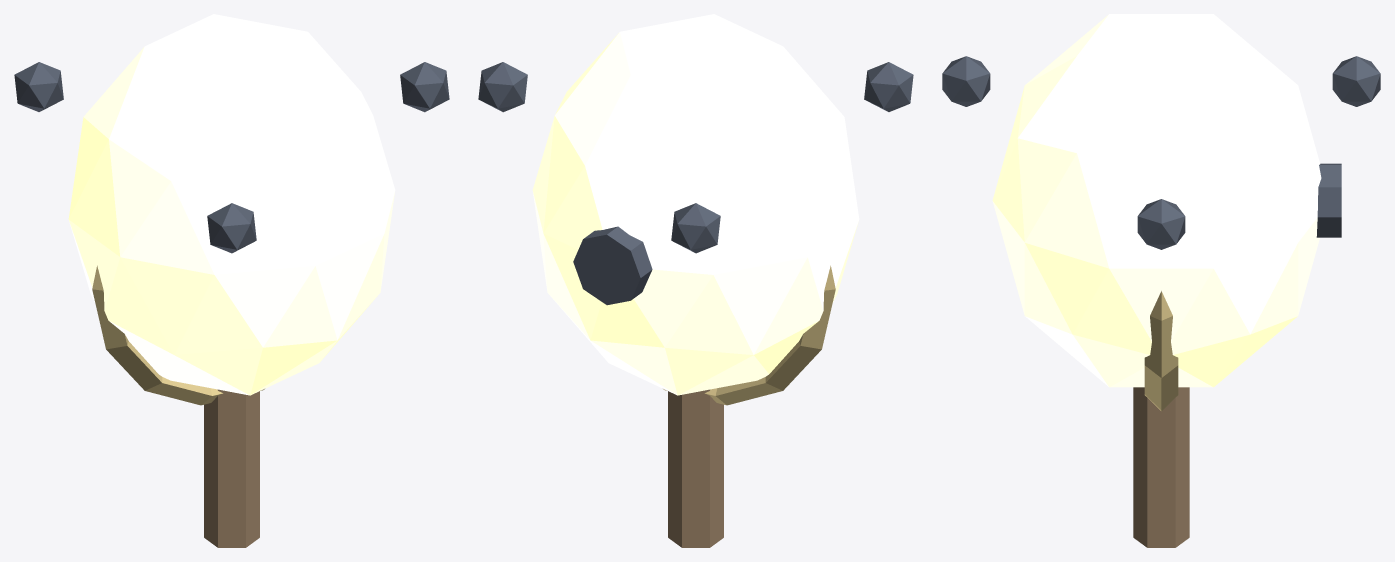
The model's file is turret_hive.glb.
3 renders of one model, left to right at view 1: azimuth 30°, elevation 25°; view 2: azimuth 150°, elevation 25°; view 3: azimuth 270°, elevation 25°, orthographic.
Visible parts, largest first — view 1: turret_hive; view 2: turret_hive; view 3: turret_hive.
Boxes of the visible parts, x1,y1,x2,y2 form: turret_hive: (14,14,449,547); turret_hive: (478,14,913,547); turret_hive: (942,14,1380,547).
Bounding box in the file's own units: 0.7347 × 1.02 × 0.7779.
